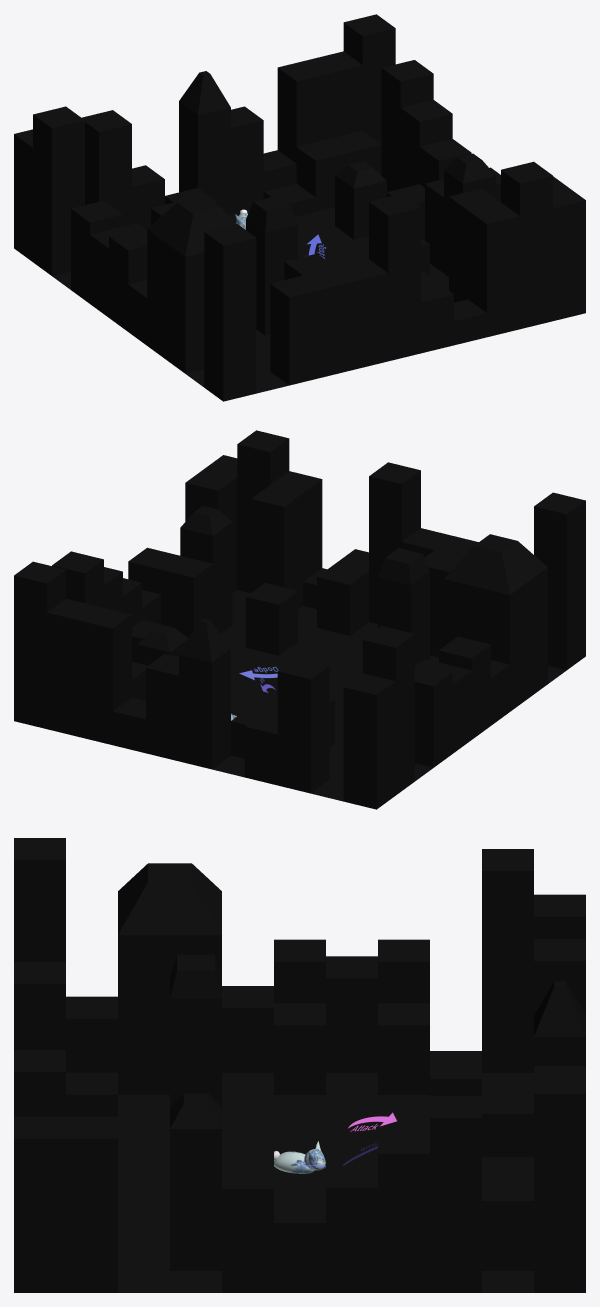
The model's file is city.gltf.
3 renders of one model, top to bottom at view 1: azimuth 30°, elevation 25°; view 2: azimuth 150°, elevation 25°; view 3: azimuth 270°, elevation 25°, orthographic. The views are drawn at different scales.
Visible parts, largest first — view 1: Plane; view 2: Plane; view 3: Plane, body.
Boxes of the visible parts, x1=… form: Plane: x1=14, y1=14, x2=585, y2=401; Plane: x1=14, y1=430, x2=585, y2=809; Plane: x1=14, y1=838, x2=585, y2=1292; body: x1=274, y1=1141, x2=325, y2=1173.
Size of the model in its own units: 84 by 37.16 by 84.
Materials: 12 (7 with a texture image).
